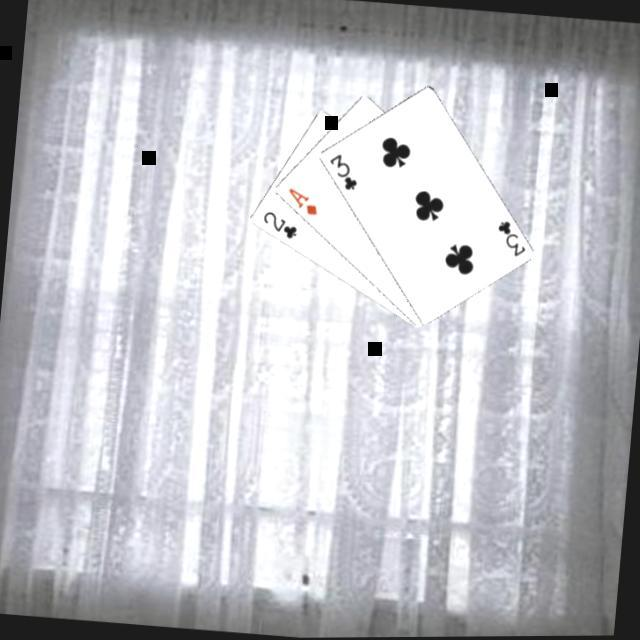2C: (255, 205, 299, 240)
3C: (490, 214, 529, 258), (322, 147, 360, 191)
AD: (281, 182, 320, 217)
